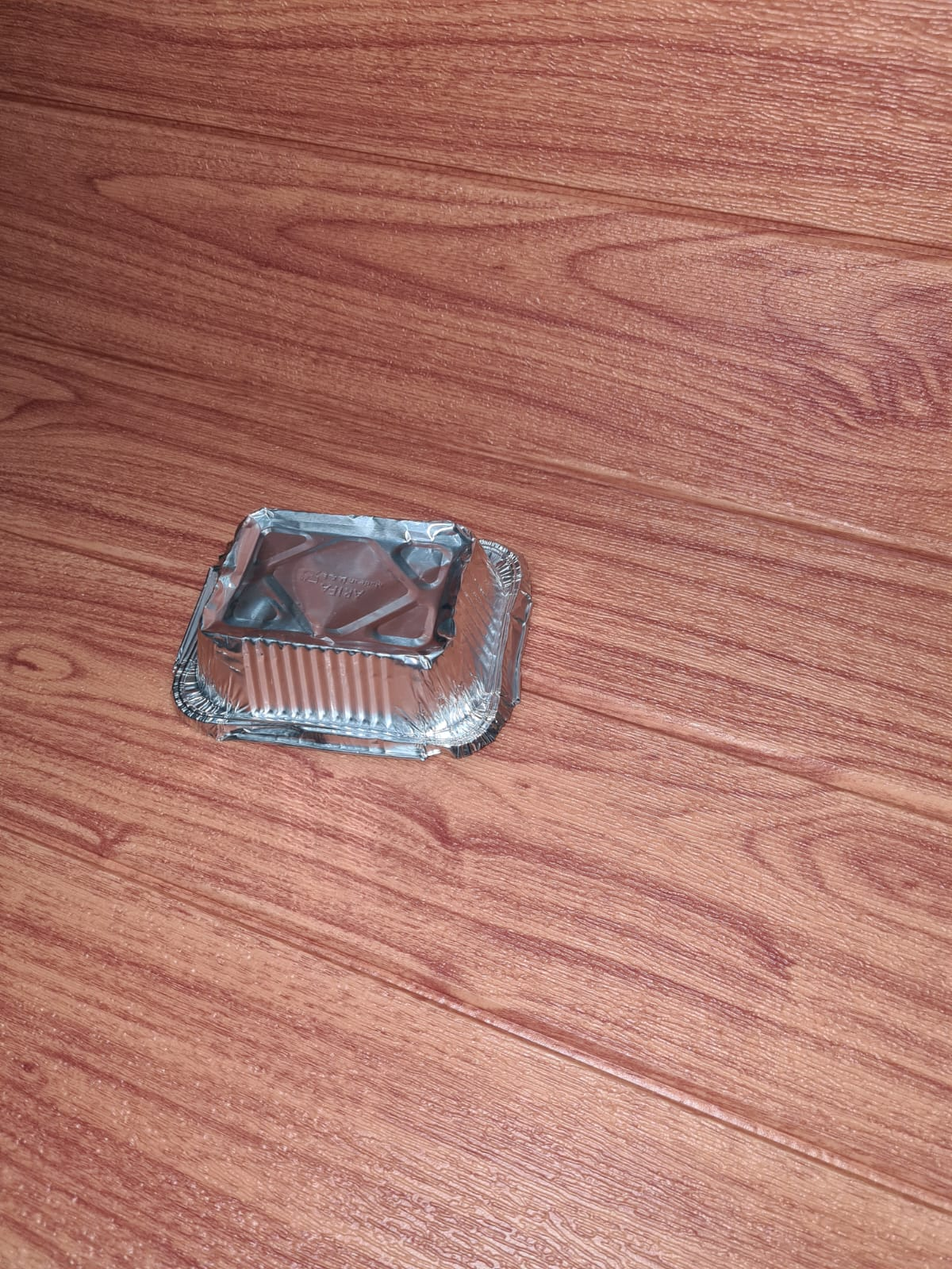Metal: (165, 513, 535, 769)
